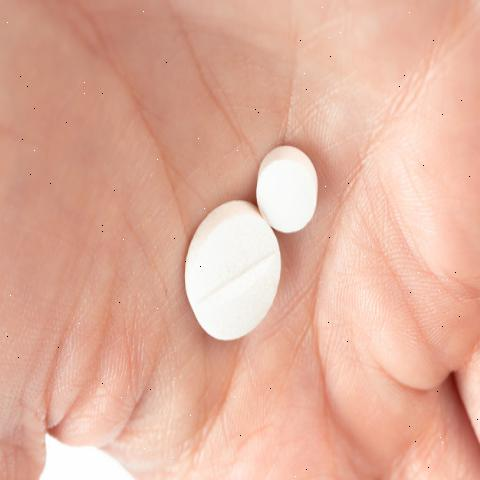Pill: (169, 190, 284, 392), (260, 124, 342, 236)
